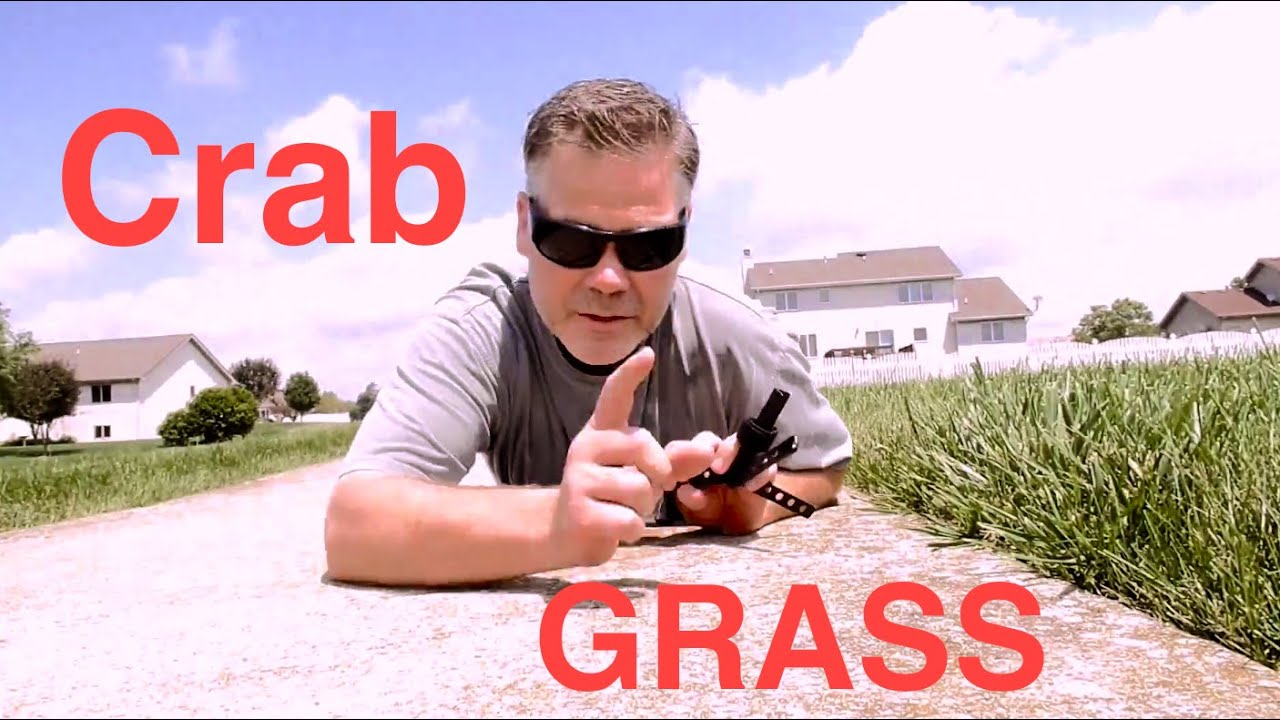crabgrass: (938, 395, 1250, 606)
